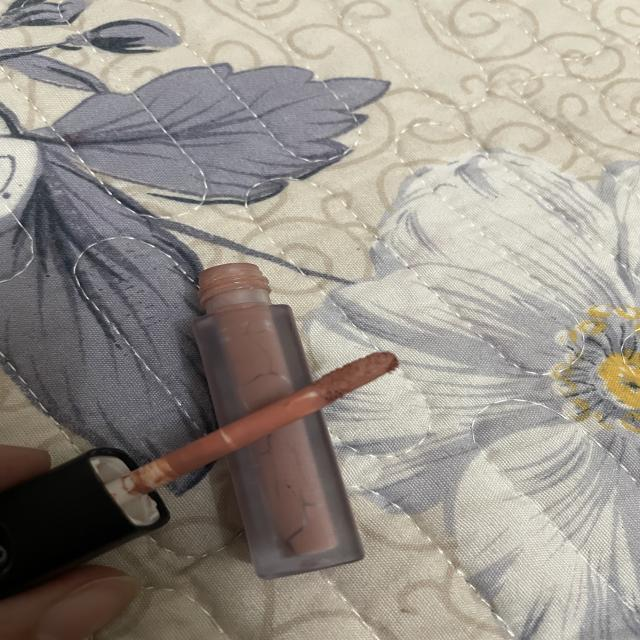lip gloss: (182, 267, 386, 595)
